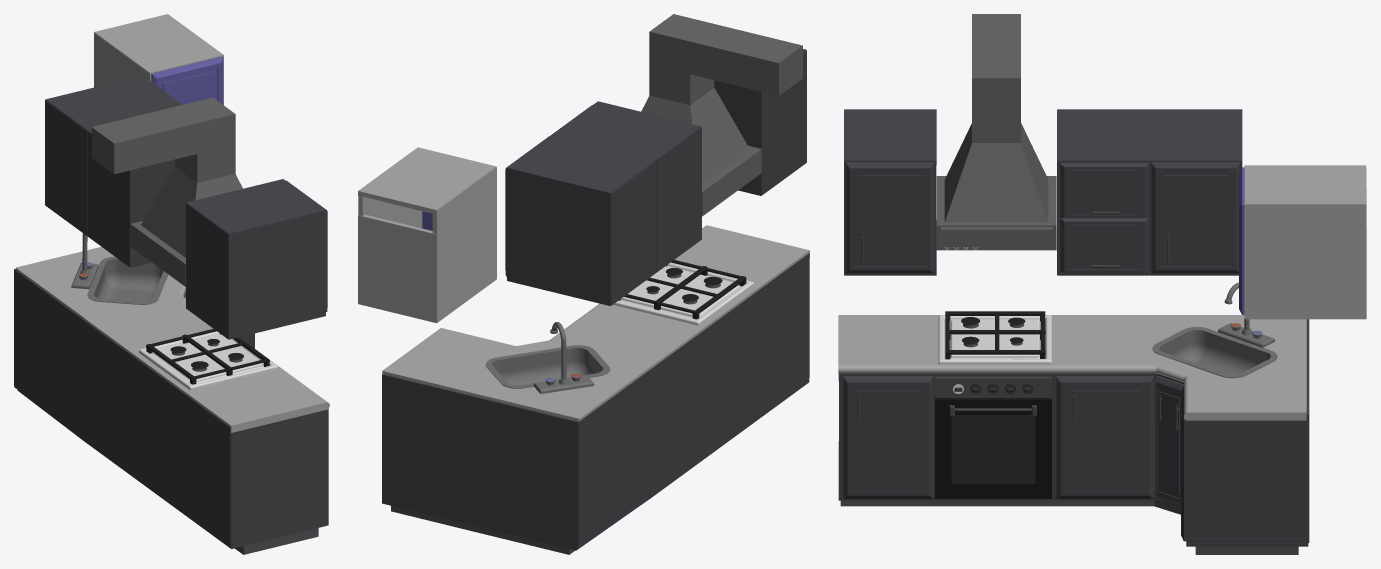
File: kitchen.fbx
The picture shows the model from 3 angles, left to right: view 1: azimuth 30°, elevation 25°; view 2: azimuth 150°, elevation 25°; view 3: azimuth 270°, elevation 25°; orthographic projection. The views are drawn at different scales.
Parts seen in each view (by area): view 1: pCube51, pCube53 (×3), pCube63, pCube62 (×3), pCube56 (×3), pCube47, pCube37, polySurface3, polySurface37, pCube57, pCube65, pCube28 (+4 smaller); view 2: pCube51, pCube52, pCube62 (×4), pCube63, pCube56 (×3), pCube54 (×3), pCube37, pCube53, polySurface3, pCube38, polySurface37, pCube65 (+6 smaller); view 3: pCube57 (×4), pCube56 (×4), pCube63, pCube30, pCube37, pCube54, pCube44, pCube50, pCube48, pCube38, pCube71, polySurface3 (+14 smaller).
Boxes of the visible parts, box(x1,y1,x2,y2) form: pCube51: box(14, 269, 230, 544); pCube53 (×3): box(94, 33, 325, 339); pCube63: box(91, 97, 242, 286); pCube62 (×3): box(45, 100, 228, 339); pCube56 (×3): box(45, 14, 325, 234); pCube47: box(231, 415, 328, 543); pCube37: box(84, 295, 329, 432); polySurface3: box(15, 247, 185, 320); polySurface37: box(138, 331, 278, 390); pCube57: box(151, 56, 223, 104); pCube65: box(94, 260, 163, 301); pCube28: box(81, 436, 328, 548); pCube51: box(578, 253, 809, 546); pCube52: box(382, 373, 579, 548); pCube62 (×4): box(358, 50, 806, 322); pCube63: box(641, 14, 802, 216); pCube56 (×3): box(358, 101, 701, 213); pCube54 (×3): box(358, 80, 761, 305); pCube37: box(550, 225, 809, 366); pCube53: box(432, 167, 496, 322); polySurface3: box(457, 340, 653, 421); pCube38: box(382, 328, 515, 391); polySurface37: box(613, 262, 753, 325); pCube65: box(492, 348, 602, 385); pCube57 (×4): box(845, 162, 1244, 314); pCube56 (×4): box(844, 109, 1365, 208); pCube63: box(936, 14, 1056, 250); pCube30: box(1186, 420, 1307, 541); pCube37: box(838, 315, 1156, 373); pCube54: box(1244, 203, 1366, 318); pCube44: box(1056, 376, 1153, 498); pCube50: box(935, 397, 1051, 498); pCube48: box(843, 376, 933, 498); pCube38: box(1184, 375, 1306, 420); pCube71: box(1060, 162, 1148, 218); polySurface3: box(1156, 315, 1306, 382).
Bounding box in the file's own units: 9.06 × 13.83 × 15.92.
